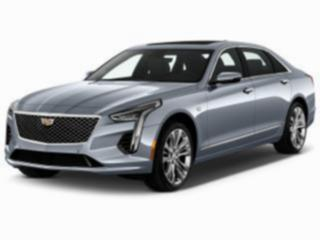cadillac: (40, 116, 58, 128)
